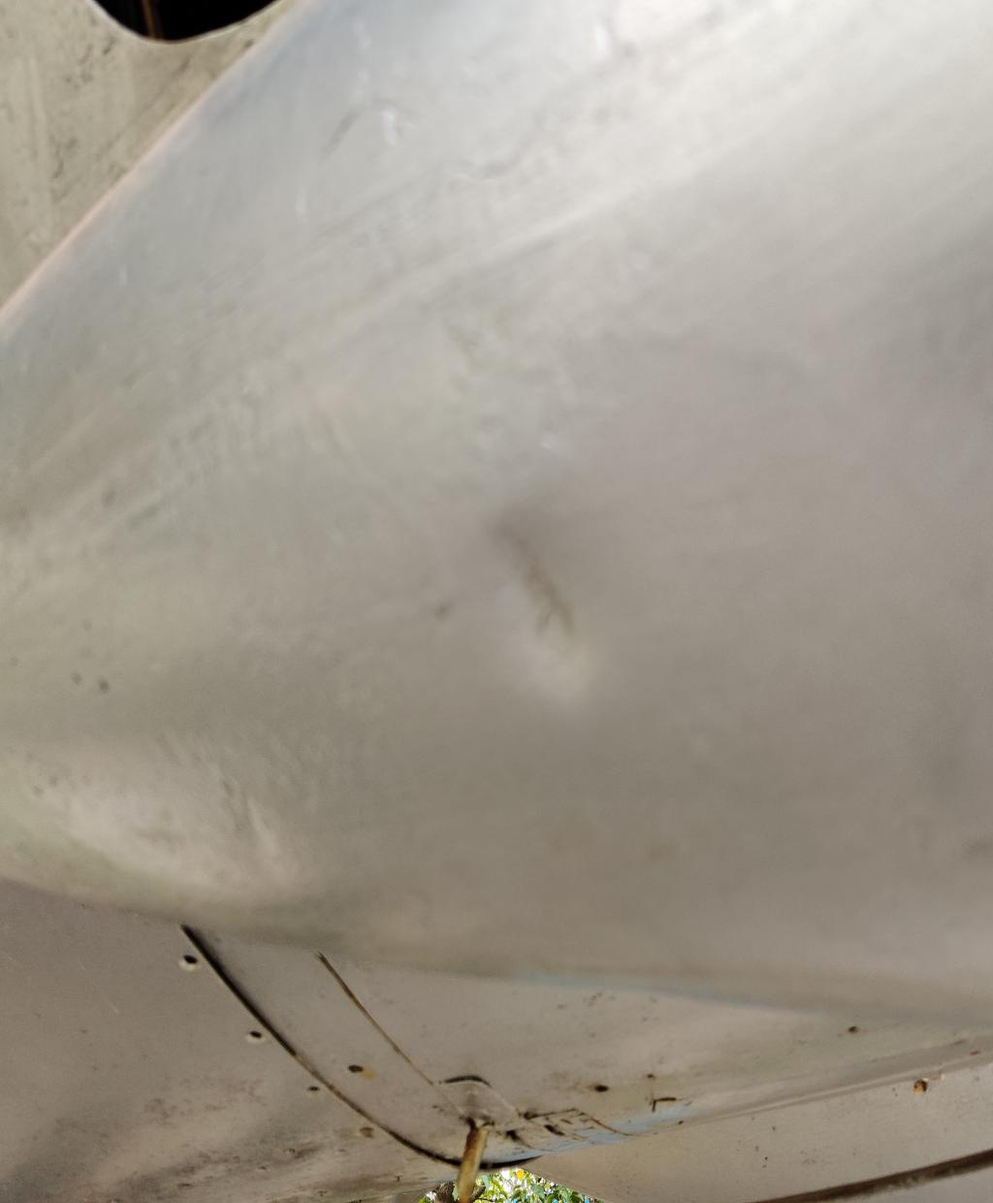dent: (433, 477, 642, 706)
